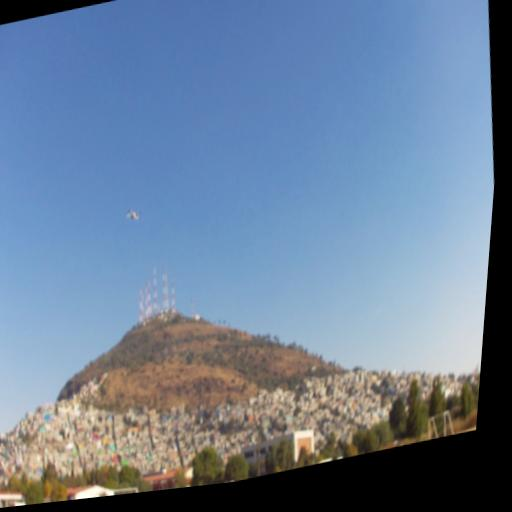drones: (123, 203, 143, 226)
